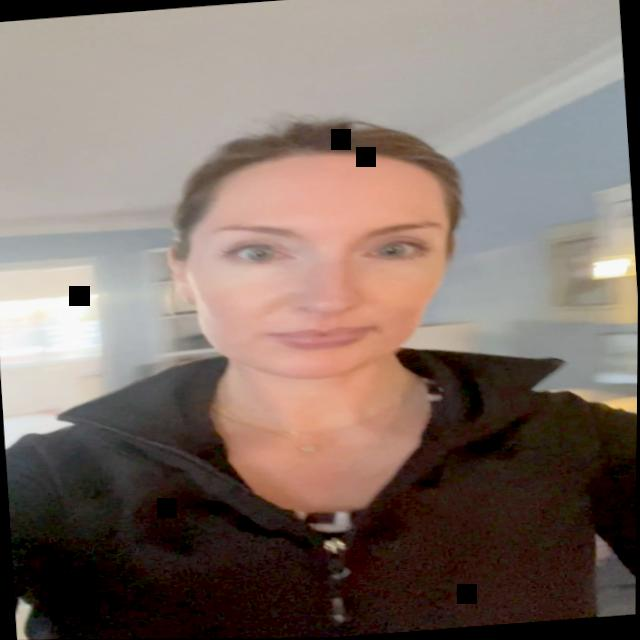NO-Mask: (173, 144, 461, 392)
